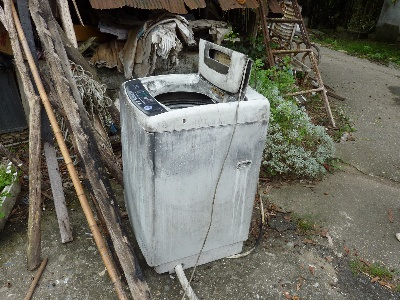washing_machine: (118, 37, 271, 275)
